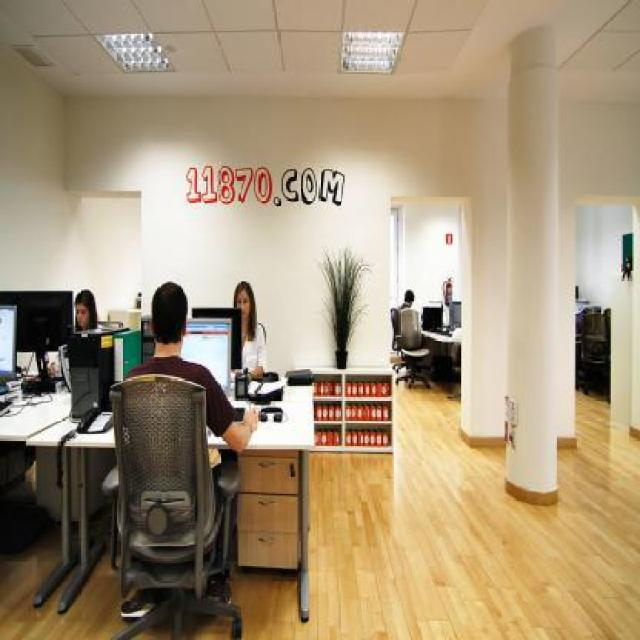Person: (115, 272, 259, 631), (226, 279, 266, 383), (72, 289, 100, 336), (393, 283, 415, 311)
